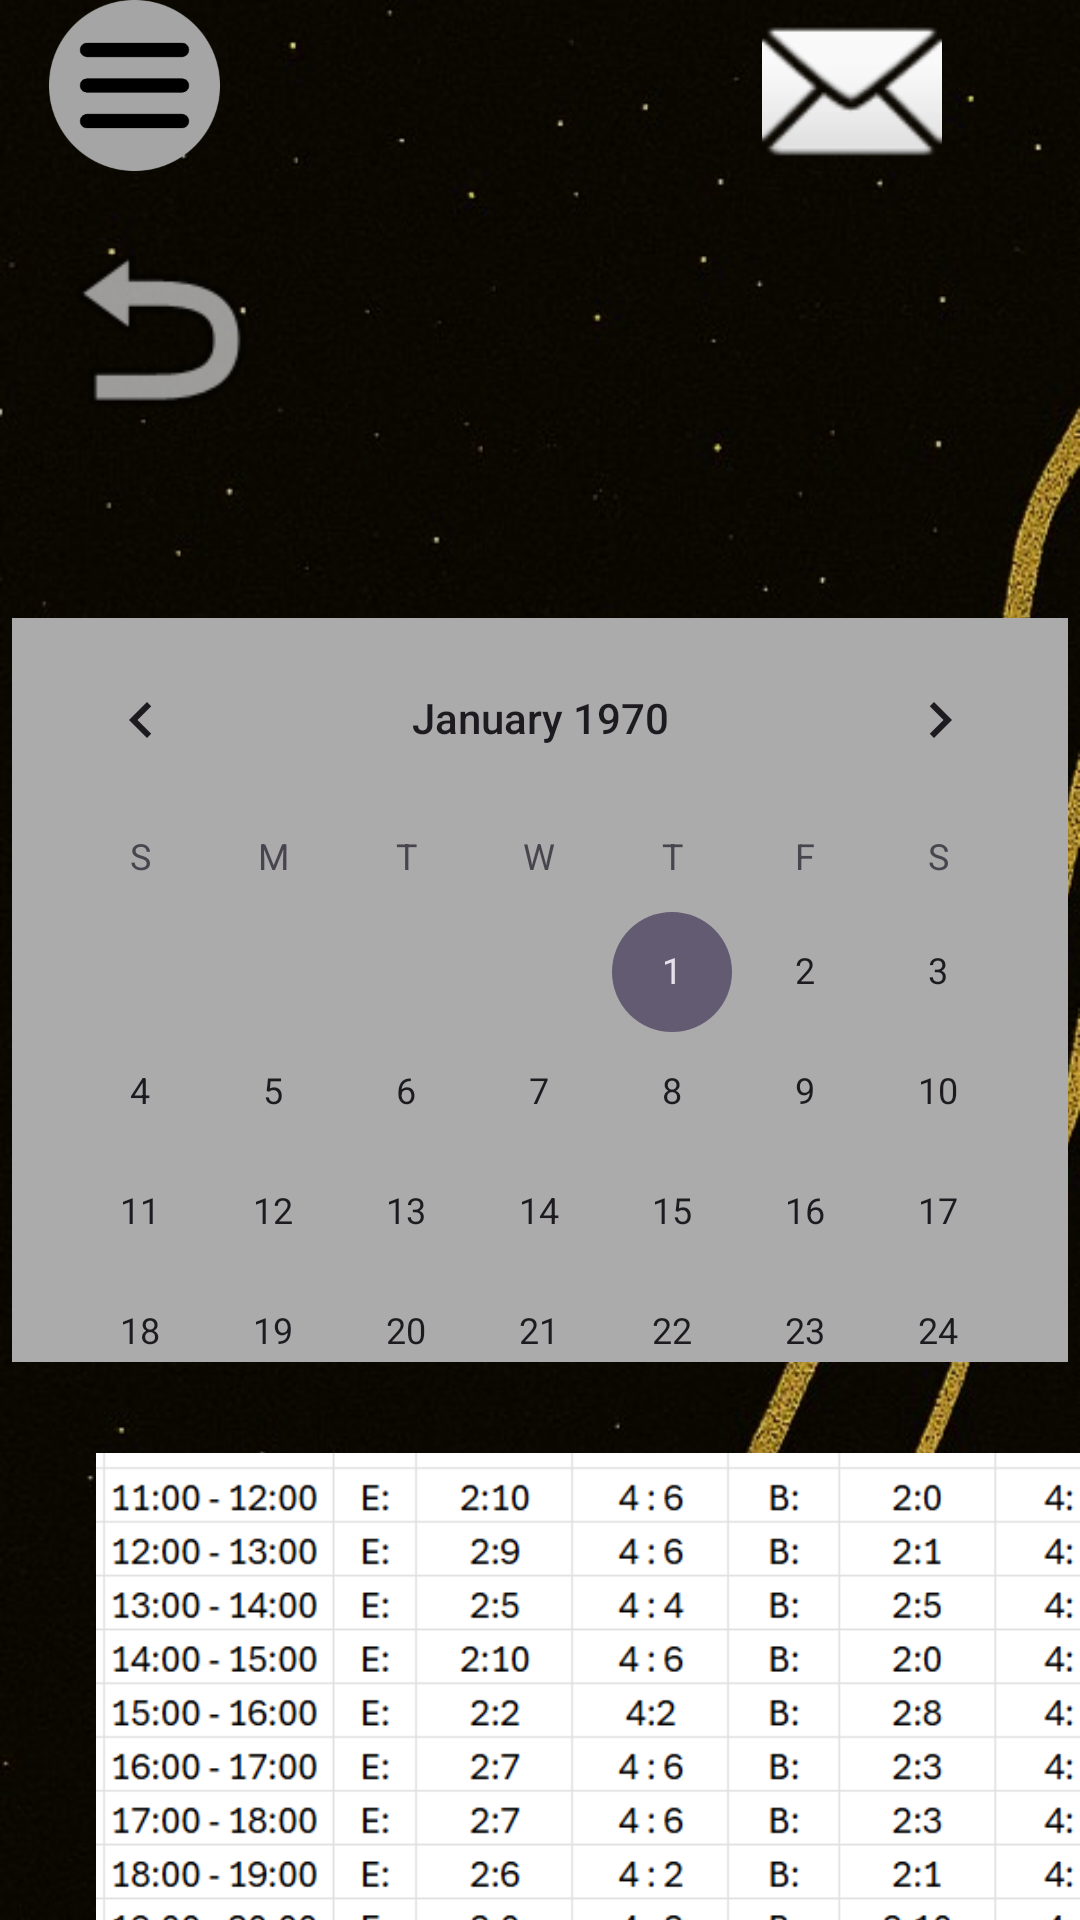

Icons on this 1080px×1920px Android screen, each with the point to tap as [x,y]:
burger menu: [134,85]
email: [846,103]
revert: [164,335]
